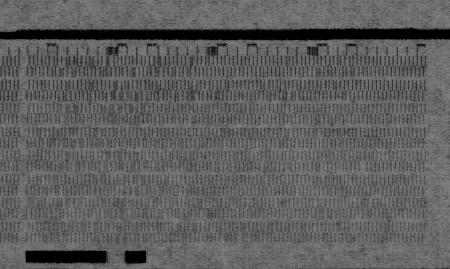Broken hole: (358, 160, 369, 173)
Oblique printing: (37, 53, 233, 245), (252, 52, 372, 105), (273, 126, 291, 150), (307, 127, 321, 141)
